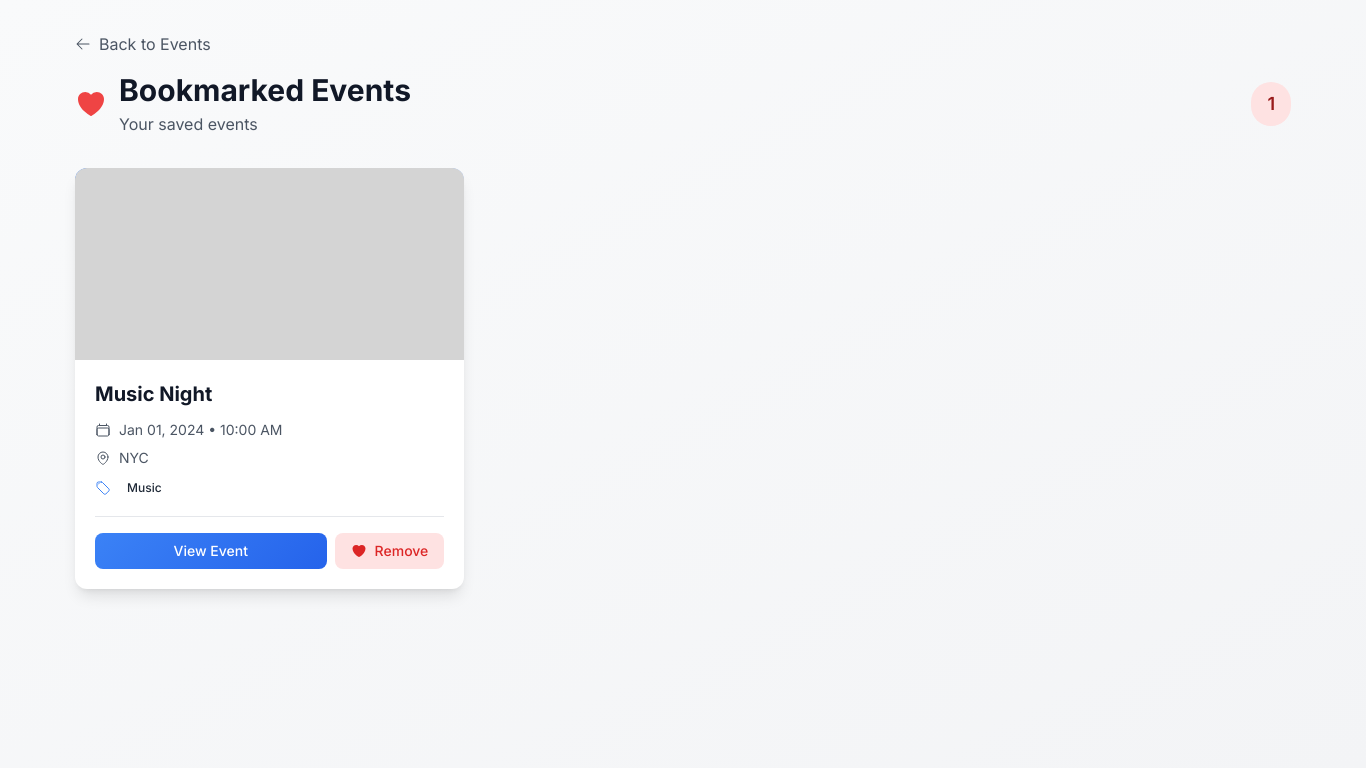
Scenario: Bookmarks page › renders bookmarks and removes one when clicking remove
Check: the heading "Music Night" is shown, box [95, 382, 212, 406]
Step 1. Click the button "Remove" → {"x": 389, "y": 551}, box [335, 533, 444, 569]
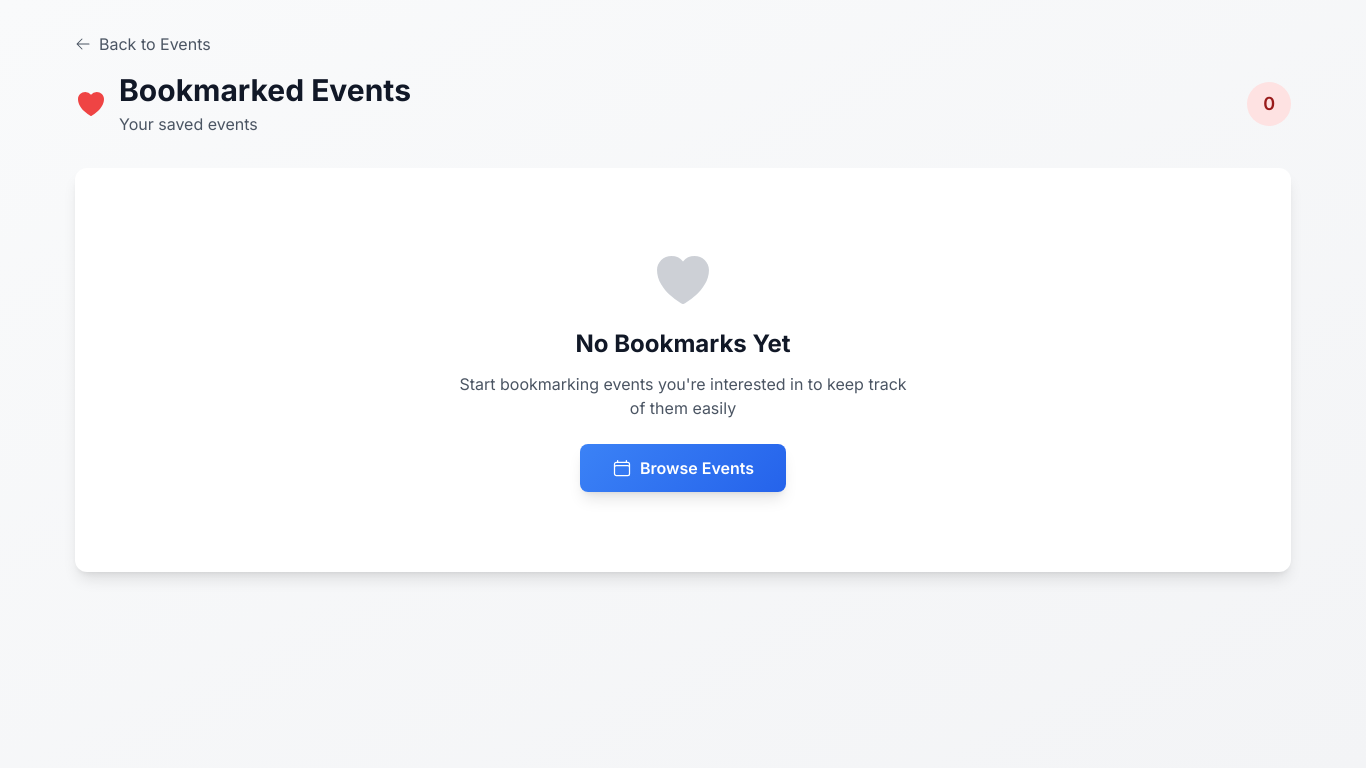
Check: the link "Music Night" is gone
